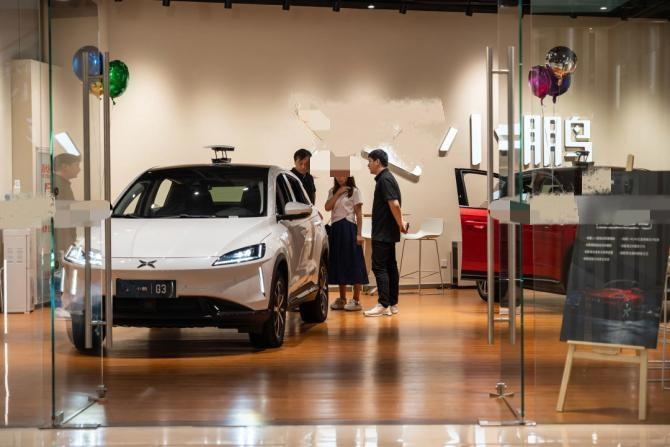XPeng Motors: (138, 260, 156, 267)
